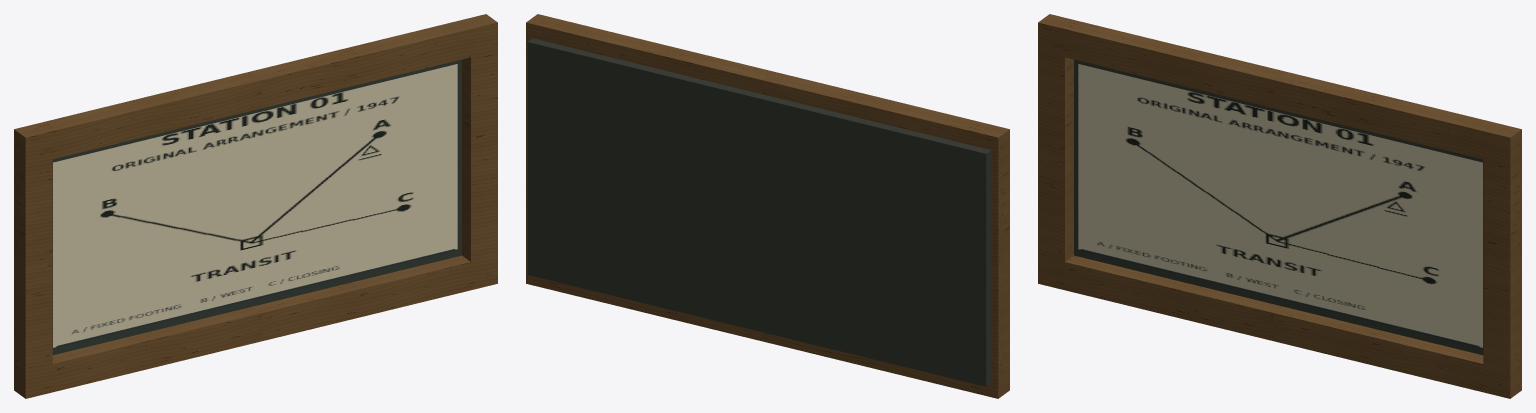
File: SM_FieldKit_Diagram_LOD2.fbx
3 renders of one model, left to right at view 1: azimuth 30°, elevation 25°; view 2: azimuth 150°, elevation 25°; view 3: azimuth 330°, elevation 25°, orthographic.
Visible parts, largest first — view 1: SM_FieldKit_Diagram_LOD2; view 2: SM_FieldKit_Diagram_LOD2; view 3: SM_FieldKit_Diagram_LOD2.
Boxes of the visible parts, x1,y1,x2,y2 form: SM_FieldKit_Diagram_LOD2: [14, 14, 497, 398]; SM_FieldKit_Diagram_LOD2: [526, 14, 1009, 398]; SM_FieldKit_Diagram_LOD2: [1038, 14, 1521, 398].
Bounding box in the file's own units: 0.7 × 0.043 × 0.37.
